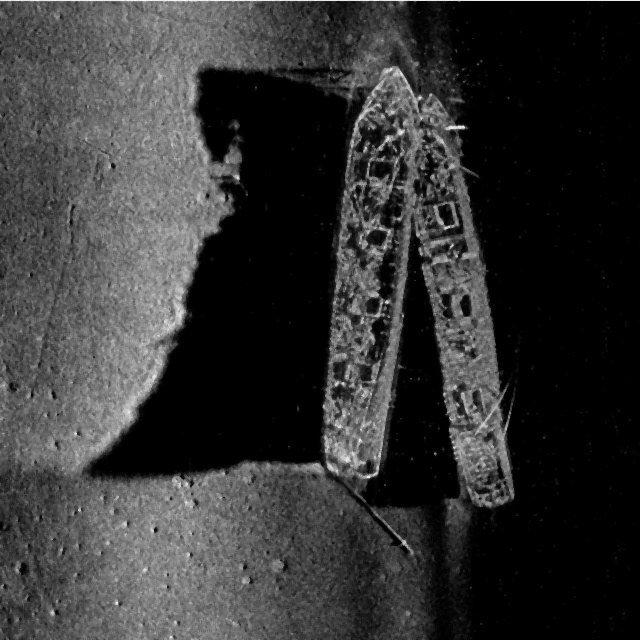Ship: (412, 77, 517, 527), (317, 56, 422, 493)
